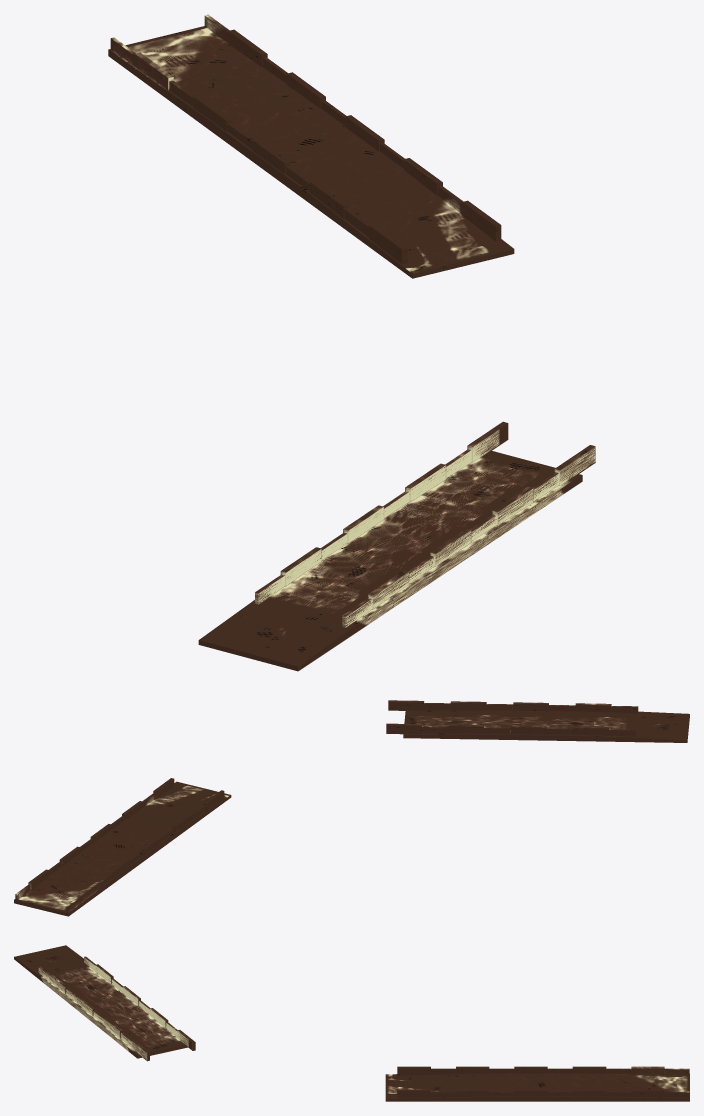
The model's file is Bridges.glb.
3 views of the same model, one above another, from view 1: azimuth 30°, elevation 25°; view 2: azimuth 150°, elevation 25°; view 3: azimuth 270°, elevation 25° (orthographic). The views are drawn at different scales.
Visible parts, largest first — view 1: Bridges; view 2: Bridges; view 3: Bridges.
Part boxes in pixels (<box>): Bridges: <box>108,14,595,671</box>; Bridges: <box>14,700,689,916</box>; Bridges: <box>14,945,689,1101</box>.
Bounding box in the file's own units: 137 × 4.65 × 252.
1 material, 1 textured.
